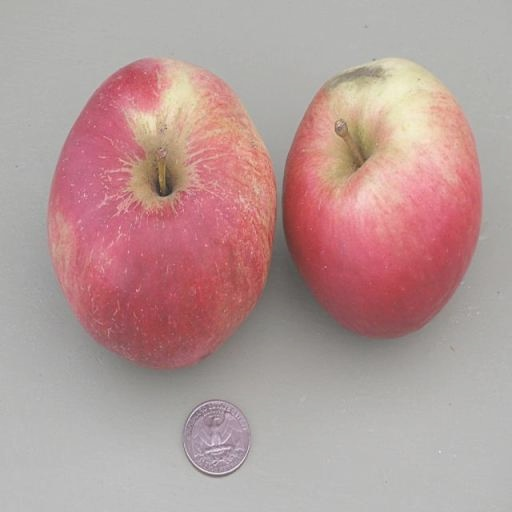fruit: (48, 59, 275, 368), (283, 59, 480, 337)
